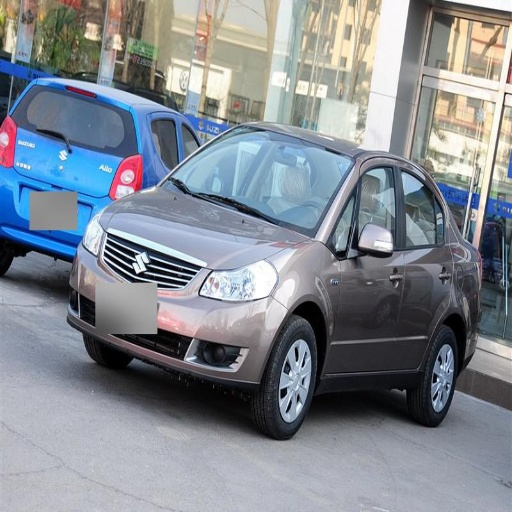back_bumper: (3, 175, 30, 241)
back_glass: (36, 95, 118, 137)
back_left_door: (391, 162, 452, 368)
front_bumper: (67, 234, 286, 383)
front_glass: (162, 131, 354, 236)
front_left_door: (327, 160, 404, 372)
trunk: (13, 126, 63, 182)
